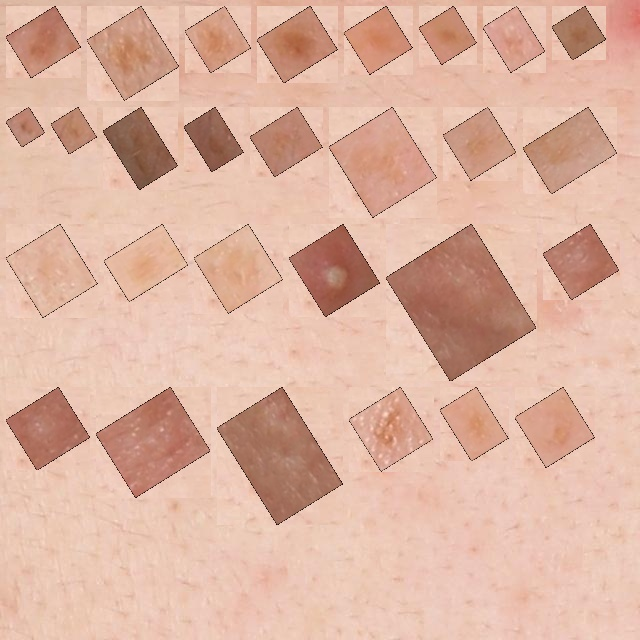hypertrophic_scar: (397, 235, 525, 370), (228, 398, 332, 513), (107, 398, 199, 486), (17, 398, 79, 459), (554, 235, 608, 288)
melasma: (340, 118, 426, 206), (98, 17, 168, 89), (17, 235, 86, 306), (534, 118, 606, 183), (205, 235, 272, 302), (360, 398, 422, 460), (115, 235, 177, 290), (526, 398, 584, 456), (268, 17, 326, 72), (114, 118, 167, 178), (454, 118, 505, 169), (17, 17, 70, 66), (261, 118, 311, 166), (451, 398, 497, 450), (355, 17, 401, 63), (196, 17, 240, 61), (494, 17, 534, 61), (195, 118, 232, 161), (430, 17, 466, 53), (563, 17, 595, 49), (62, 118, 86, 143), (17, 118, 34, 136)
pustule: (300, 235, 369, 305)
